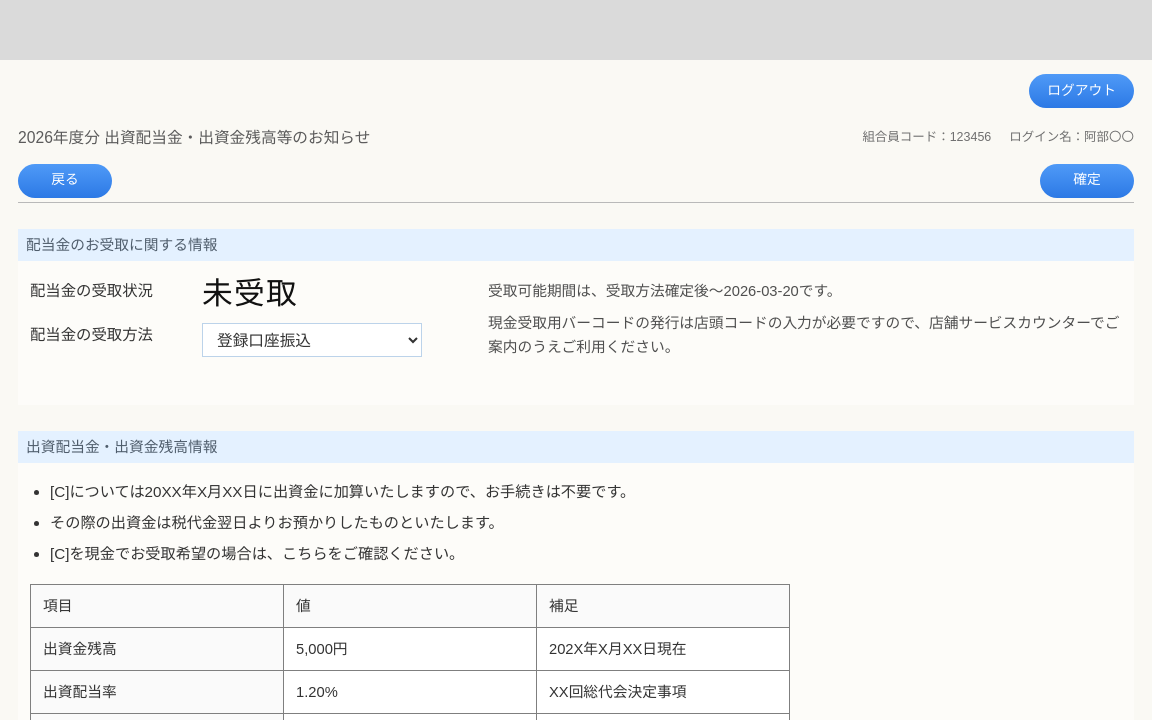
it: DividendNoticePage › shows a business error when the update request is rejected
Expected: the dropdown labelled "配当金の受取方法" is shown, left=202, top=323, right=422, bottom=357
Click the button "確定".
click(1087, 180)  # box left=1040, top=164, right=1134, bottom=198
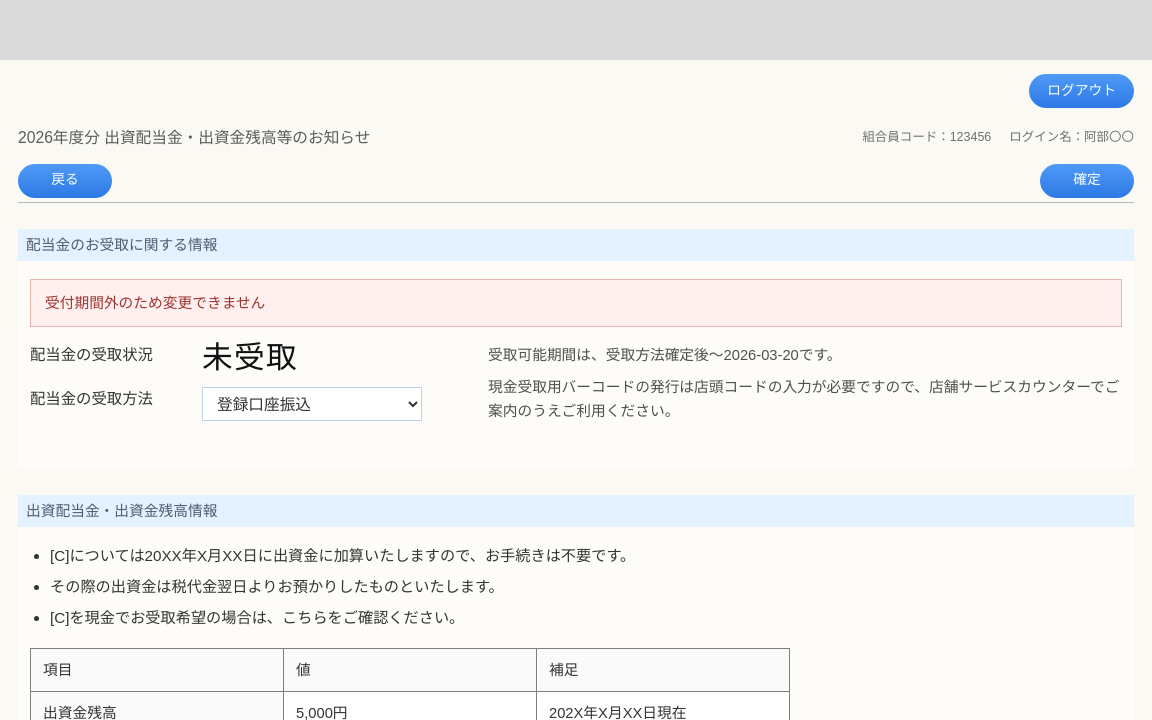
Result: the message reads "受付期間外のため変更できません" at left=45, top=295, right=265, bottom=311
